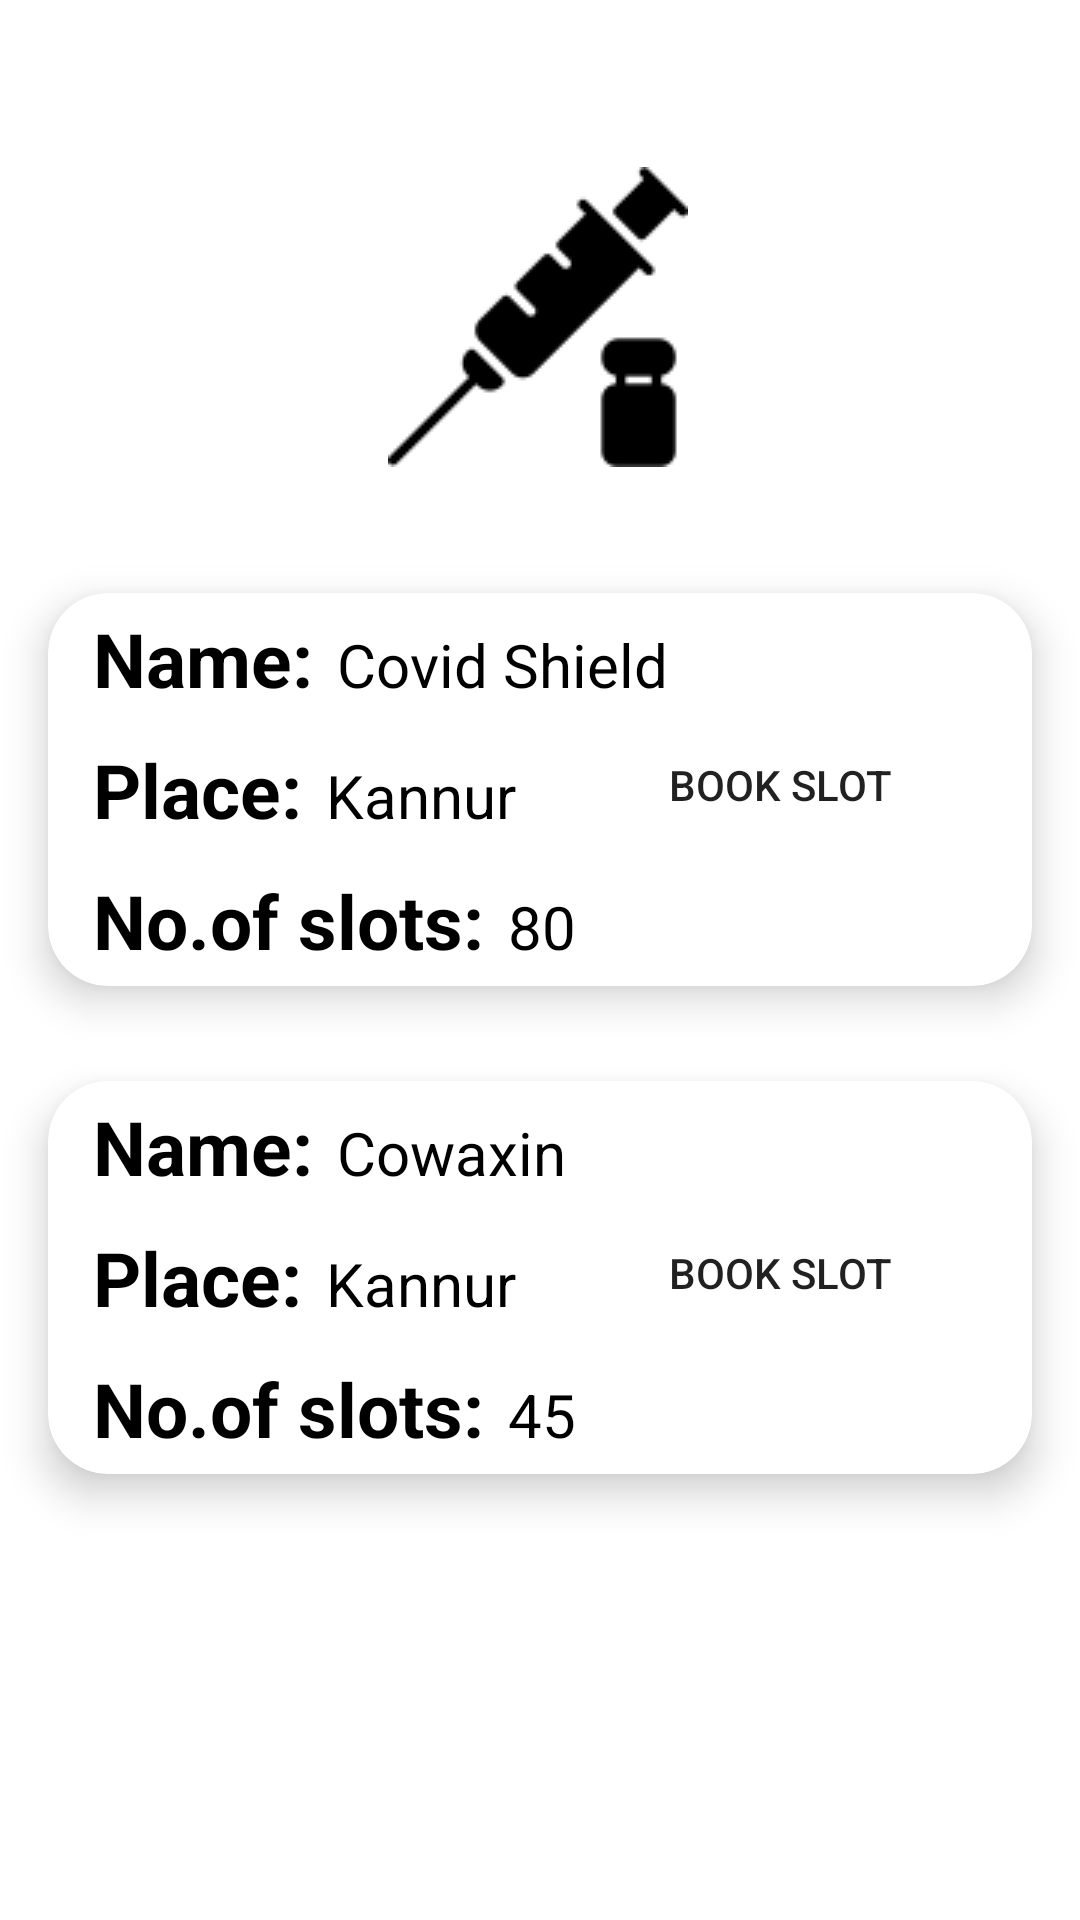

Icon bounding boxes for this 1080w x 1920h phone screenshot, format (x1, y1, x2, y2):
injection: (388, 167, 688, 467)
